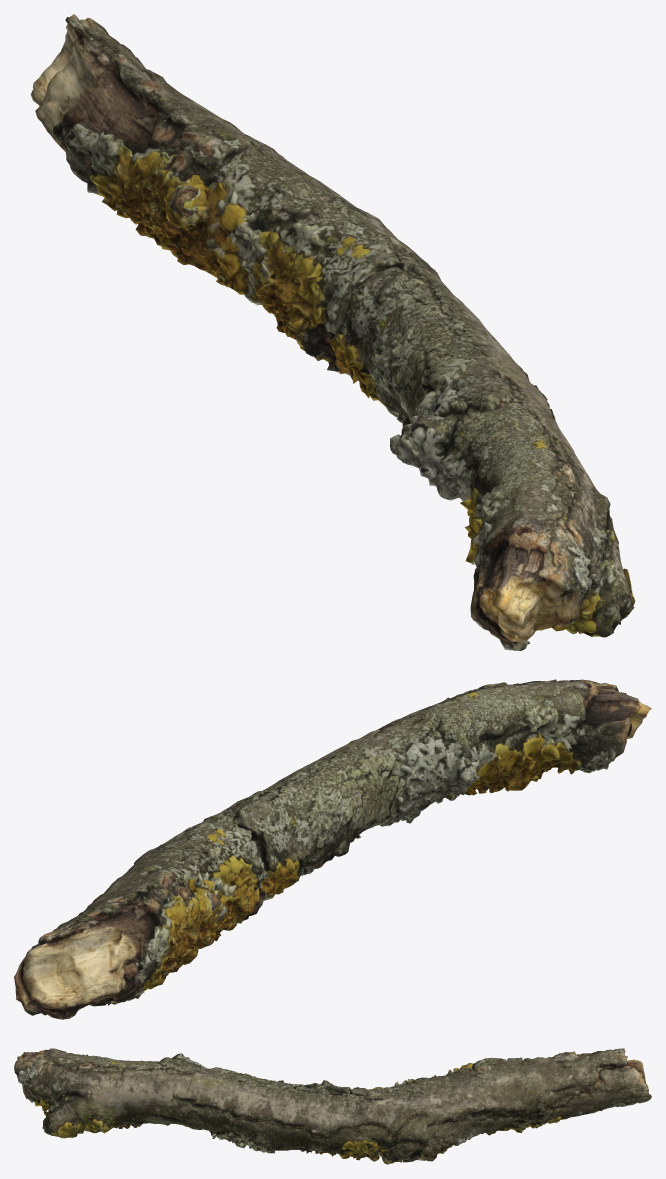
The model's file is wood2.glb.
3 renders of one model, top to bottom at view 1: azimuth 30°, elevation 25°; view 2: azimuth 150°, elevation 25°; view 3: azimuth 270°, elevation 25°, orthographic. The views are drawn at different scales.
Visible parts, largest first — view 1: wood_stick_03; view 2: wood_stick_03; view 3: wood_stick_03.
Part boxes in pixels (x1,y1,x2,y2): wood_stick_03: [30, 14, 635, 650]; wood_stick_03: [14, 679, 651, 1019]; wood_stick_03: [14, 1048, 651, 1164].
Bounding box in the file's own units: 0.4166 × 0.2672 × 1.57.
1 material, 1 textured.
